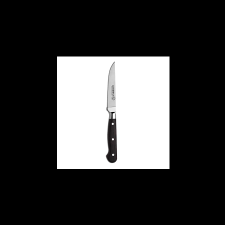k1: (105, 61, 118, 125)
